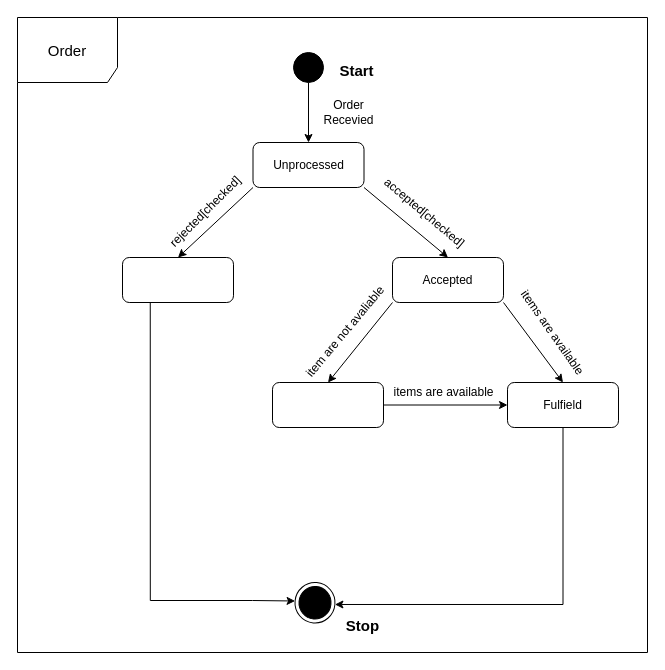
Some shapes in this 665 by 670 pixel diagram are drawn without their labels. Each missing label, with the centre of its shape:
Pending: [328,405]
Rejected: [178,279]
